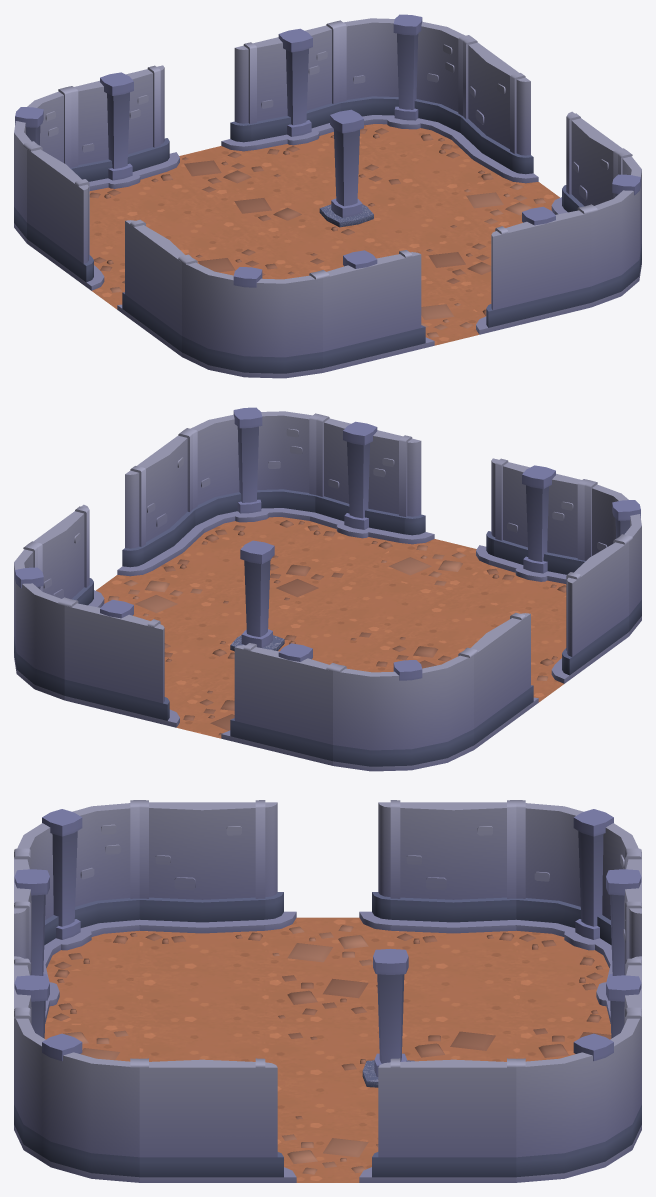
Rendered from room_large.glb.
The picture shows the model from 3 angles, top to bottom: view 1: azimuth 30°, elevation 25°; view 2: azimuth 150°, elevation 25°; view 3: azimuth 270°, elevation 25°; orthographic projection. The views are drawn at different scales.
Visible parts, largest first — view 1: room-large; view 2: room-large; view 3: room-large.
Boxes of the visible parts, x1=… form: room-large: x1=14, y1=14, x2=641, y2=378; room-large: x1=14, y1=407, x2=641, y2=771; room-large: x1=14, y1=800, x2=641, y2=1182.
Size of the model in its own units: 20 by 4.23 by 20.
1 material, 1 textured.
